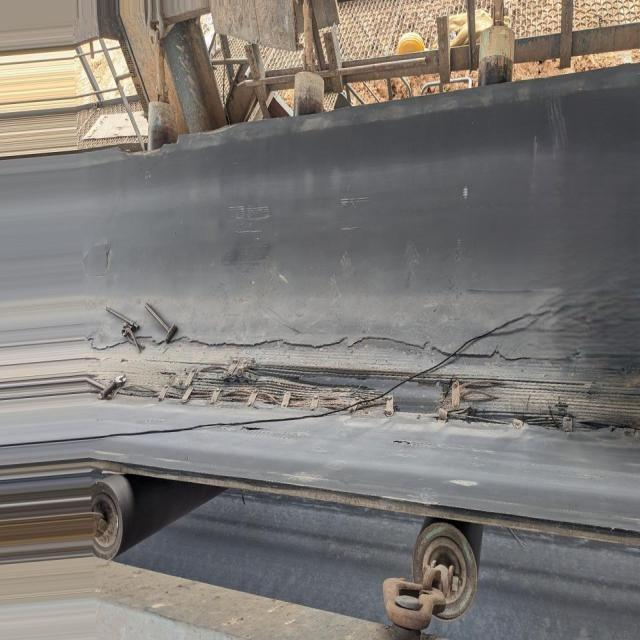Tear: (92, 329, 640, 445)
